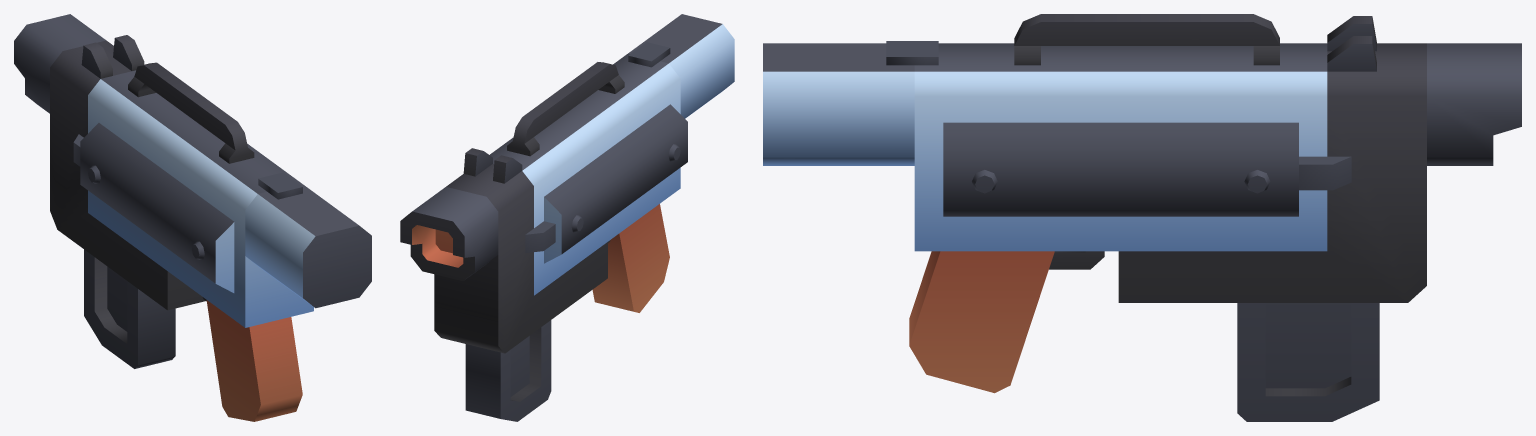
Rendered from blaster-a.fbx.
The picture shows the model from 3 angles, left to right: view 1: azimuth 30°, elevation 25°; view 2: azimuth 150°, elevation 25°; view 3: azimuth 270°, elevation 25°; orthographic projection. The views are drawn at different scales.
Visible parts, largest first — view 1: blaster-a, magazine; view 2: blaster-a, magazine; view 3: blaster-a, magazine.
Boxes of the visible parts, bbox=[...] form: blaster-a: bbox=[14, 14, 371, 421]; magazine: bbox=[84, 249, 175, 368]; blaster-a: bbox=[400, 14, 734, 353]; magazine: bbox=[465, 320, 551, 421]; blaster-a: bbox=[763, 14, 1521, 393]; magazine: bbox=[1237, 303, 1379, 421].
Bounding box in the file's own units: 18.38 × 45.59 × 80.
Materials: 1 (1 with a texture image).
